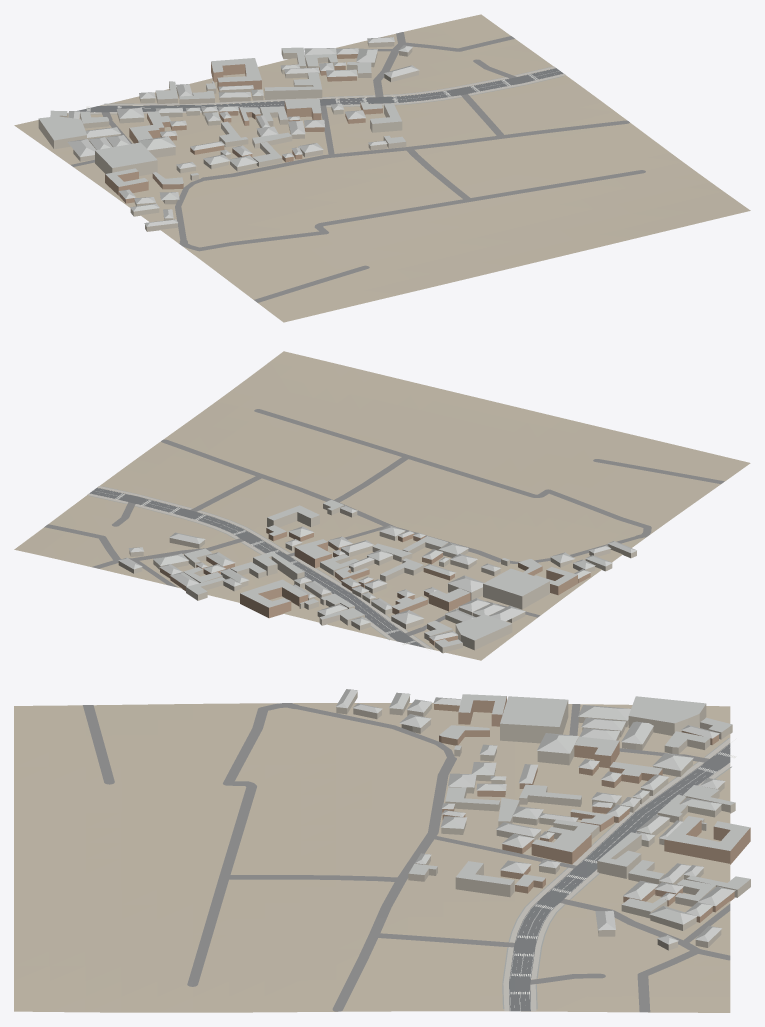
Rendered from bolak_7_4.glb.
3 views of the same model, one above another, from view 1: azimuth 30°, elevation 25°; view 2: azimuth 150°, elevation 25°; view 3: azimuth 270°, elevation 25° (orthographic). The views are drawn at different scales.
Visible parts, largest first — view 1: Yer_Tuproq-col, Tom_Shifer, Yol_Mahalla-col, Devor_Suvoq-col, Devor_Gisht-col, Yol_Asfalt-col, Trotuar; view 2: Yer_Tuproq-col, Tom_Shifer, Devor_Suvoq-col, Yol_Mahalla-col, Devor_Gisht-col, Yol_Asfalt-col, Trotuar, Yol_Chiziq; view 3: Yer_Tuproq-col, Tom_Shifer, Yol_Mahalla-col, Devor_Suvoq-col, Devor_Gisht-col, Yol_Asfalt-col, Trotuar, Yol_Chiziq, Ariq.
Boxes of the visible parts, x1,y1,x2,y2 form: Yer_Tuproq-col: (14, 14, 750, 322); Tom_Shifer: (39, 37, 419, 226); Yol_Mahalla-col: (71, 32, 645, 302); Devor_Suvoq-col: (38, 41, 418, 231); Devor_Gisht-col: (105, 54, 382, 203); Yol_Asfalt-col: (76, 68, 563, 112); Trotuar: (67, 66, 565, 114); Yer_Tuproq-col: (14, 351, 750, 660); Tom_Shifer: (118, 499, 636, 647); Devor_Suvoq-col: (118, 503, 636, 653); Yol_Mahalla-col: (44, 409, 724, 635); Devor_Gisht-col: (160, 528, 590, 645); Yol_Asfalt-col: (89, 487, 425, 647); Trotuar: (87, 486, 432, 649); Yol_Chiziq: (91, 488, 430, 651); Yer_Tuproq-col: (14, 703, 730, 1012); Tom_Shifer: (336, 689, 750, 944); Yol_Mahalla-col: (83, 703, 730, 1012); Devor_Suvoq-col: (336, 692, 750, 950); Devor_Gisht-col: (434, 696, 750, 922); Yol_Asfalt-col: (509, 743, 730, 1011); Trotuar: (503, 738, 730, 1010); Yol_Chiziq: (509, 738, 736, 1012); Ariq: (502, 738, 731, 1009).
Size of what is drawn, in the model's own units: 412 by 14.64 by 412.
